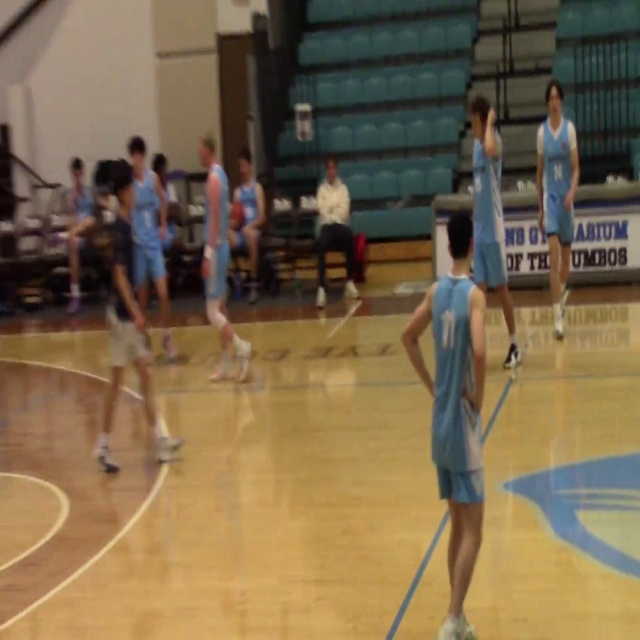Basketball: (229, 201, 245, 231)
